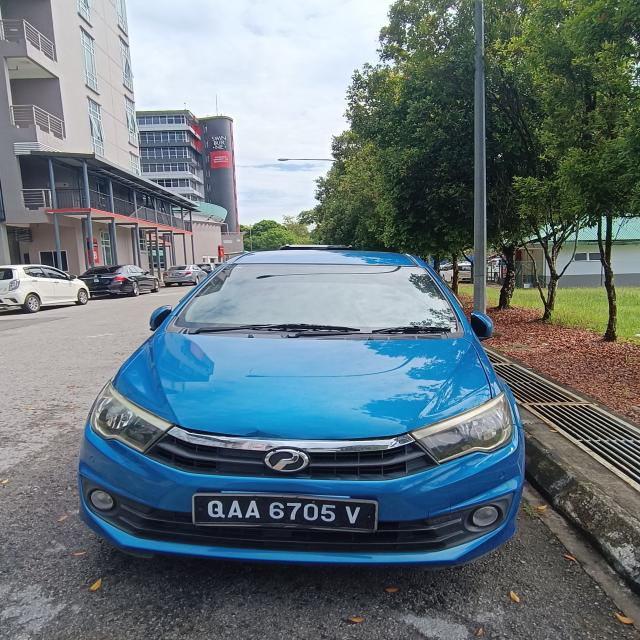PeroduaBezza: (76, 244, 528, 569)
